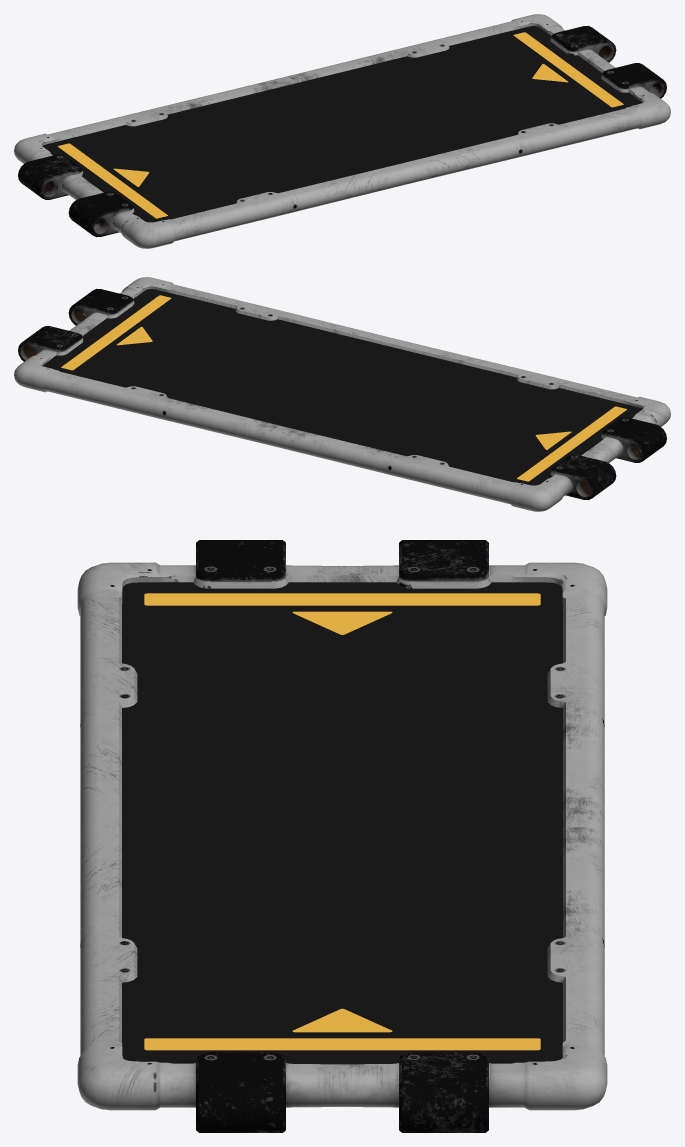
Rendered from GymRampB.fbx.
3 renders of one model, top to bottom at view 1: azimuth 30°, elevation 25°; view 2: azimuth 150°, elevation 25°; view 3: azimuth 270°, elevation 25°, orthographic. The views are drawn at different scales.
Parts seen in each view (by area): view 1: GymRampB001; view 2: GymRampB001; view 3: GymRampB001.
Boxes of the visible parts, x1,y1,x2,y2 form: GymRampB001: (14, 14, 670, 248); GymRampB001: (14, 277, 670, 511); GymRampB001: (77, 540, 607, 1132).
Bounding box in the file's own units: 192 × 7.35 × 76.45.
